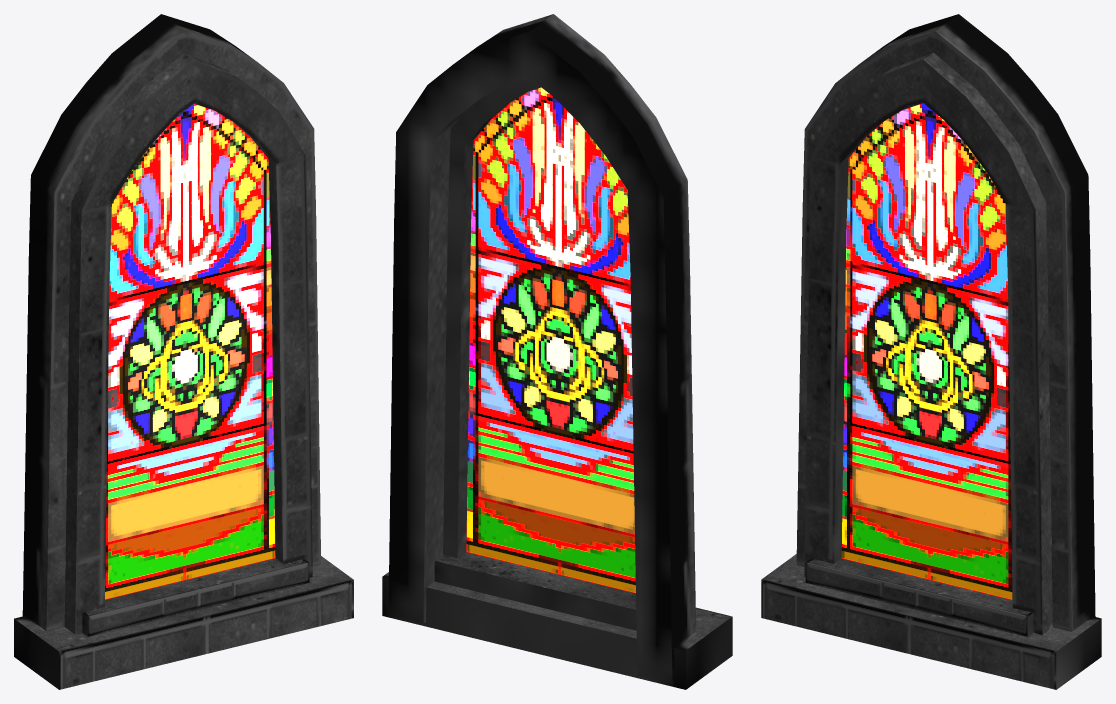
The model's file is Janela.glb.
3 renders of one model, left to right at view 1: azimuth 30°, elevation 25°; view 2: azimuth 150°, elevation 25°; view 3: azimuth 330°, elevation 25°, orthographic. The views are drawn at different scales.
Parts seen in each view (by area): view 1: bordasmall_geo, vitralsmall_geo; view 2: bordasmall_geo, vitralsmall_geo; view 3: bordasmall_geo, vitralsmall_geo.
Part boxes in pixels (box(x1,y1,x2,y2)): bordasmall_geo: box(14, 14, 353, 689); vitralsmall_geo: box(105, 104, 275, 599); bordasmall_geo: box(382, 14, 732, 689); vitralsmall_geo: box(466, 87, 635, 593); bordasmall_geo: box(761, 14, 1101, 689); vitralsmall_geo: box(841, 103, 1012, 599).
Size of the model in its own units: 2.15 by 4.22 by 0.6035.
Materials: 2 (2 with a texture image).
